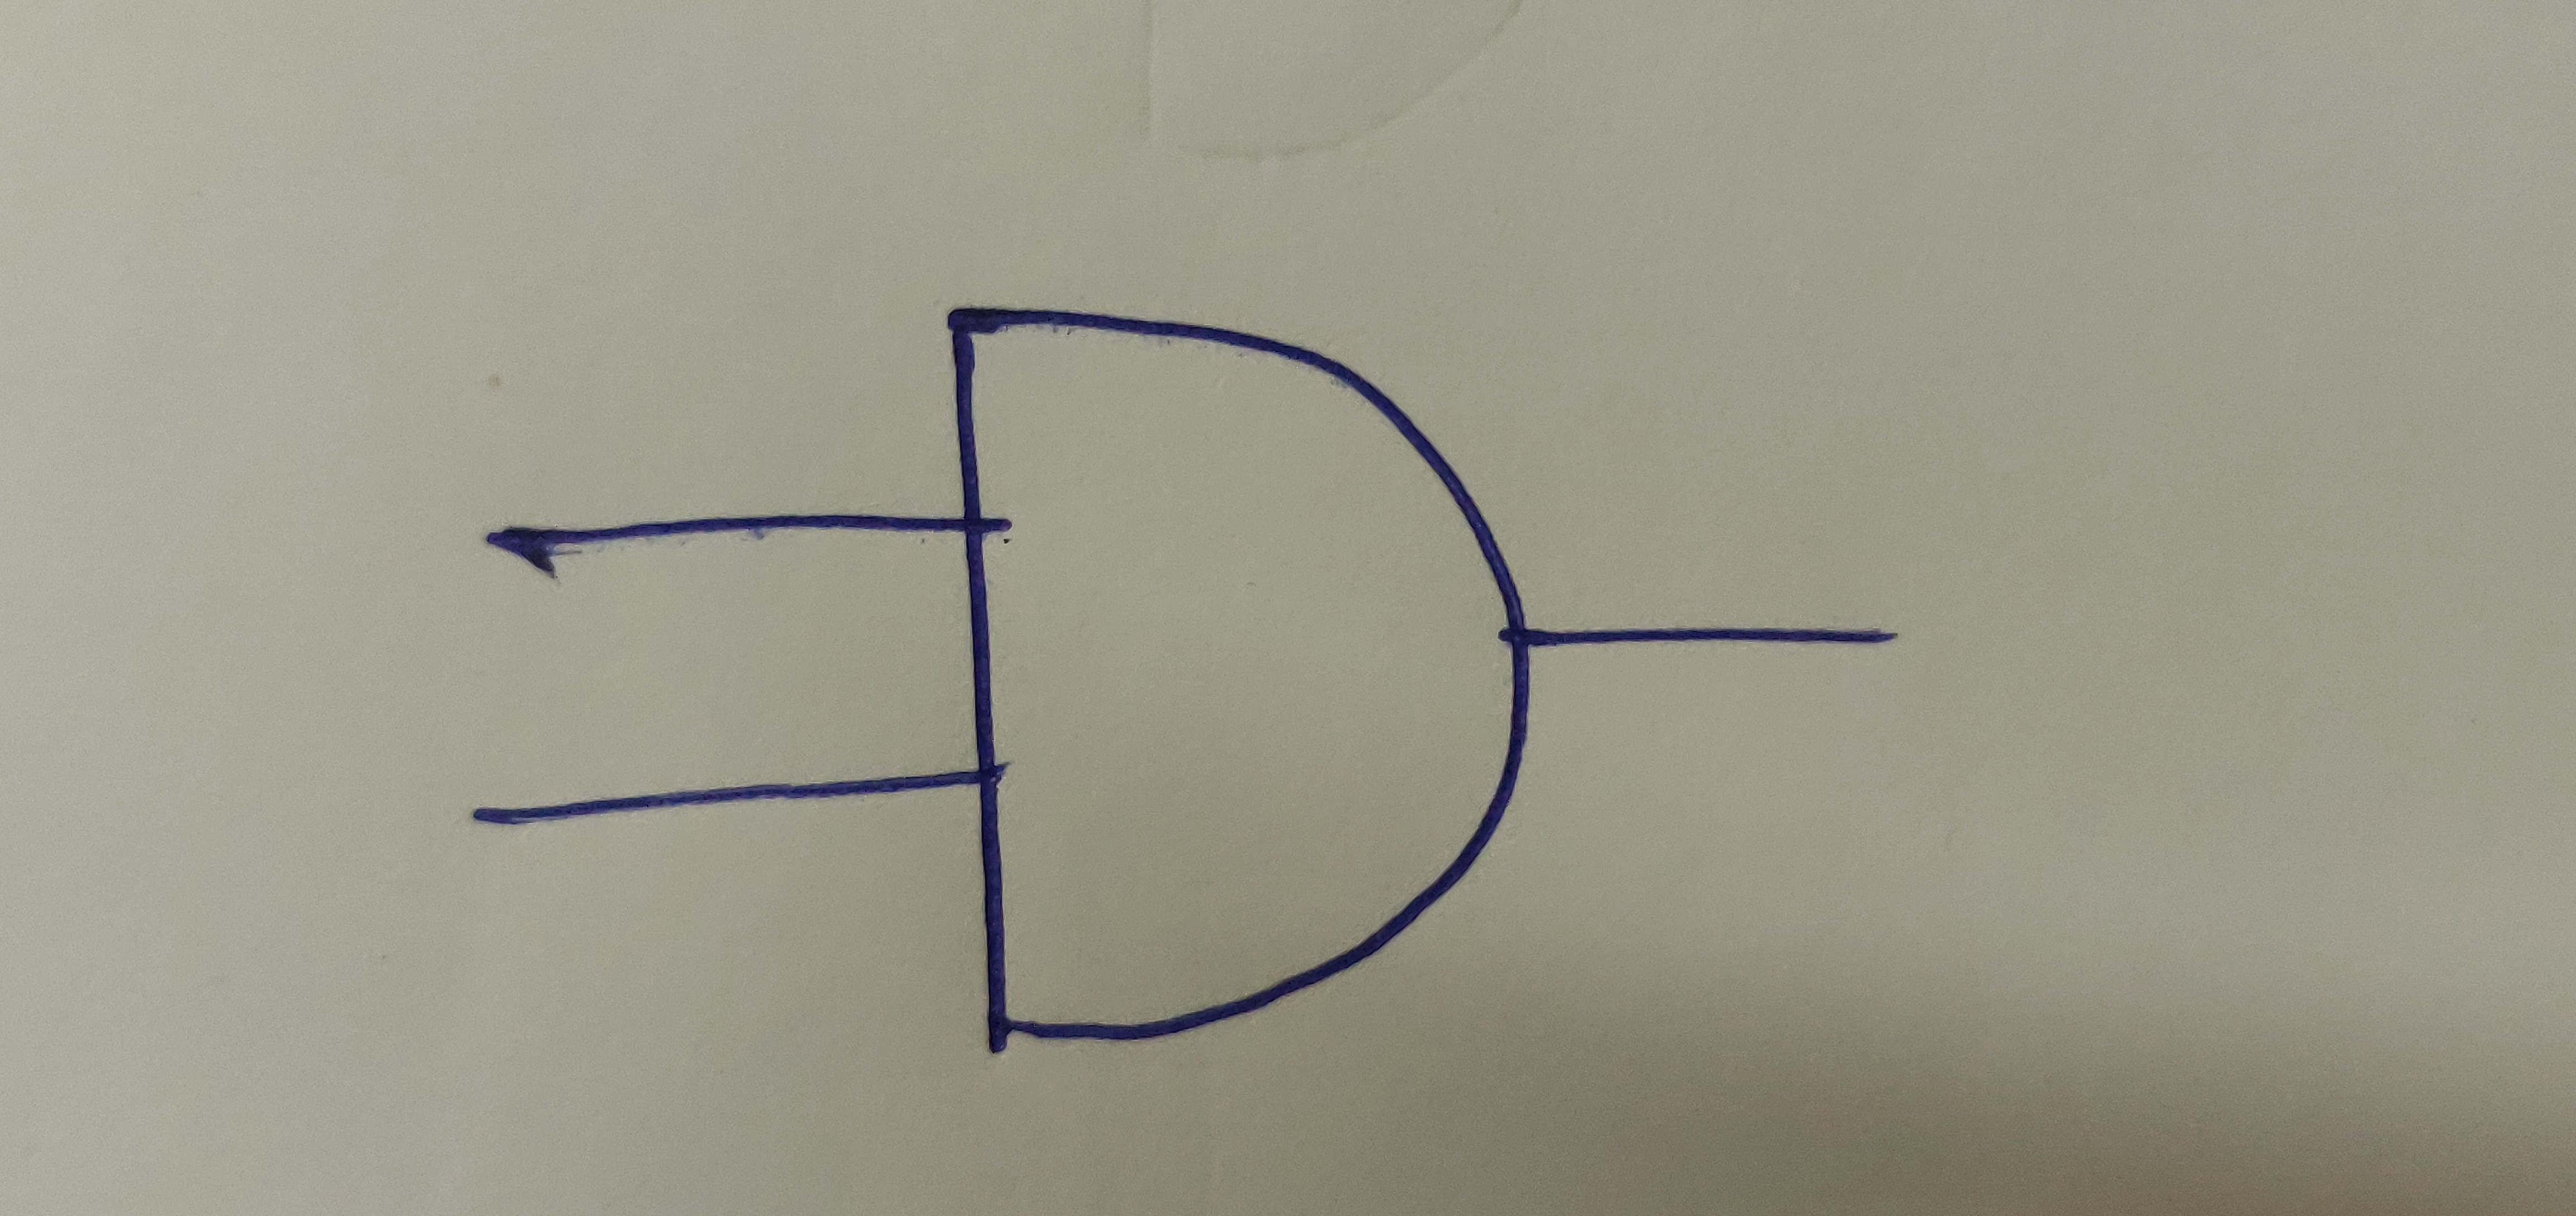and: (941, 296, 1534, 1047)
